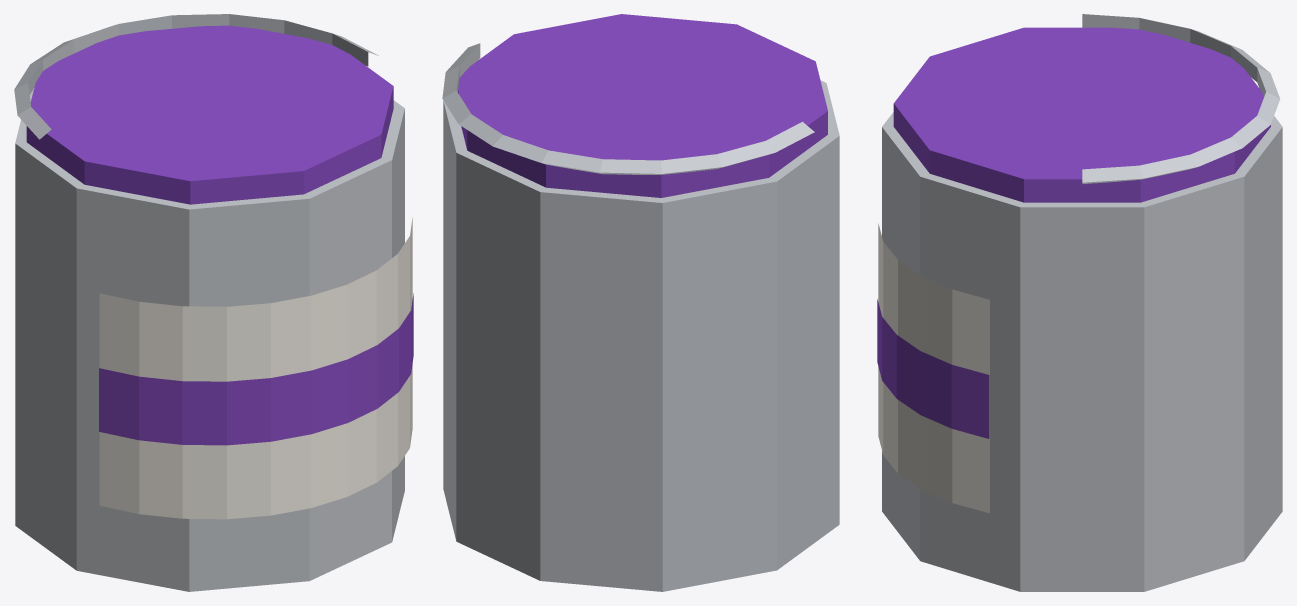
File: paint_can_5.glb
3 renders of one model, left to right at view 1: azimuth 30°, elevation 25°; view 2: azimuth 150°, elevation 25°; view 3: azimuth 270°, elevation 25°, orthographic.
Visible parts, largest first — view 1: can_tin, lid, label_paint_label, label, handle_tin; view 2: can_tin, lid, handle_tin; view 3: can_tin, lid, label_paint_label, label, handle_tin.
Boxes of the visible parts, left/top/right/bottom form: can_tin: left=15, top=89, right=404, bottom=591; lid: left=26, top=25, right=393, bottom=204; label_paint_label: left=99, top=217, right=412, bottom=519; label: left=99, top=293, right=413, bottom=445; handle_tin: left=14, top=14, right=378, bottom=139; can_tin: left=443, top=80, right=839, bottom=591; lid: left=458, top=14, right=827, bottom=197; handle_tin: left=442, top=43, right=814, bottom=174; can_tin: left=882, top=112, right=1282, bottom=591; lid: left=893, top=27, right=1270, bottom=202; label_paint_label: left=878, top=223, right=989, bottom=513; label: left=877, top=299, right=989, bottom=438; handle_tin: left=1082, top=14, right=1280, bottom=184.
Size of the model in its own units: 0.168 by 0.1965 by 0.172.
